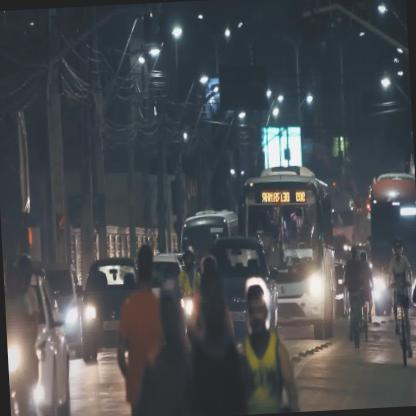bus: (240, 166, 338, 341)
car: (205, 237, 279, 341), (76, 258, 140, 361)
motorcycle: (388, 239, 414, 366), (344, 247, 364, 350), (355, 252, 375, 341)
